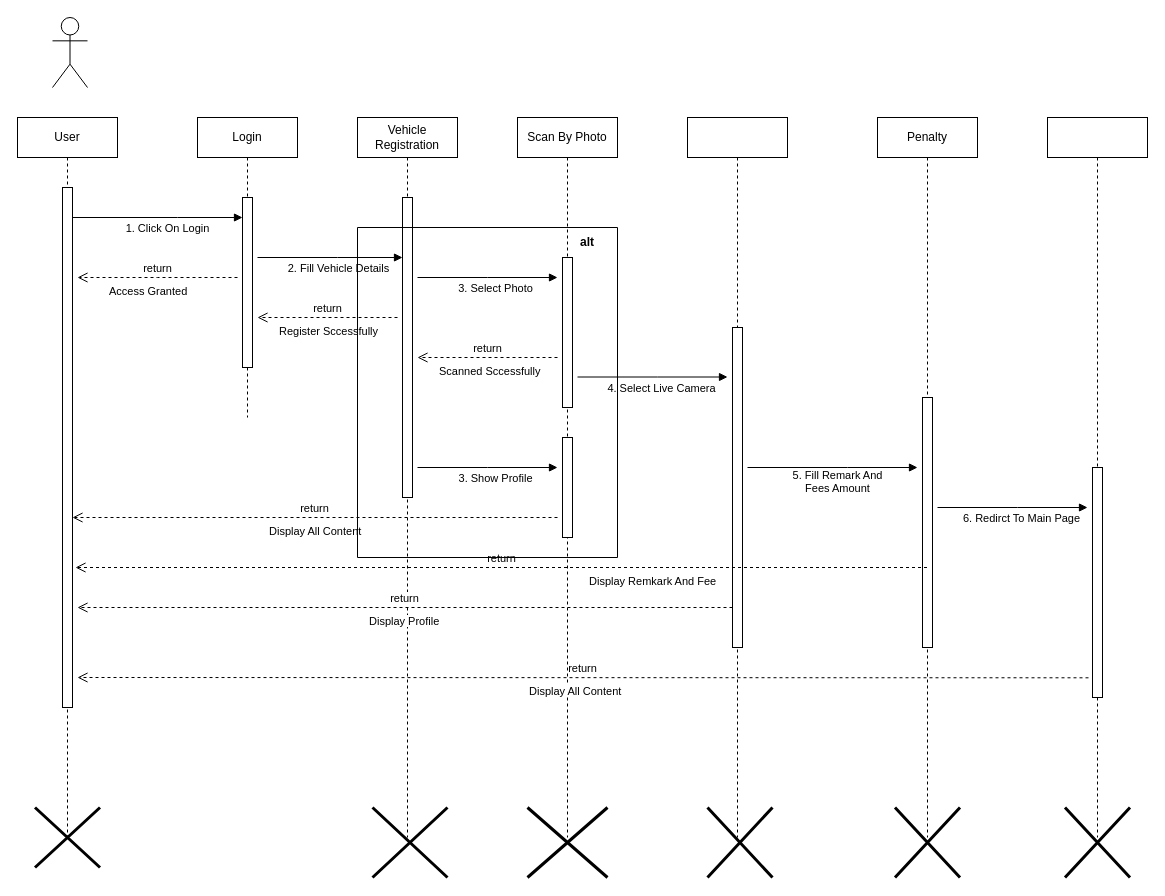
This 1165x896 diagram has some shape labels left out. The box of each missing label's shape, as (x1, y1, x2, y2) in pixels:
Actor: (52, 16, 88, 88)
Main Page: (1046, 116, 1148, 838)
Scan By Video: (686, 116, 788, 838)
